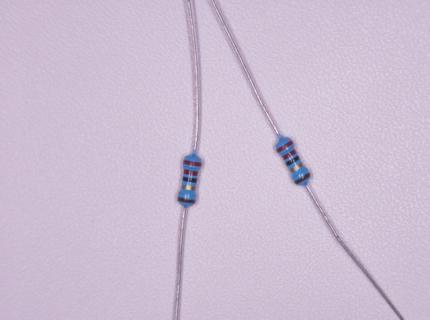Black band: (285, 155, 300, 166), (183, 176, 198, 183)
Brown band: (294, 172, 311, 185), (177, 197, 196, 204)
Gold band: (289, 162, 304, 173), (182, 186, 196, 191)
Red band: (275, 140, 294, 153), (282, 149, 297, 160), (183, 160, 202, 167), (184, 169, 198, 176)
